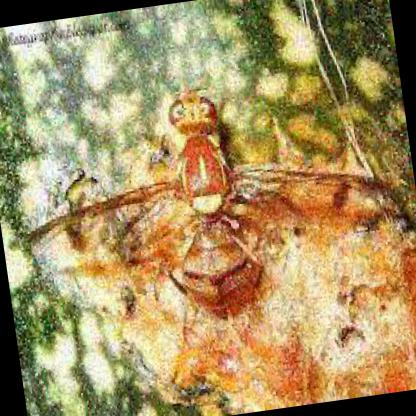fruit fly: (28, 93, 402, 323)
